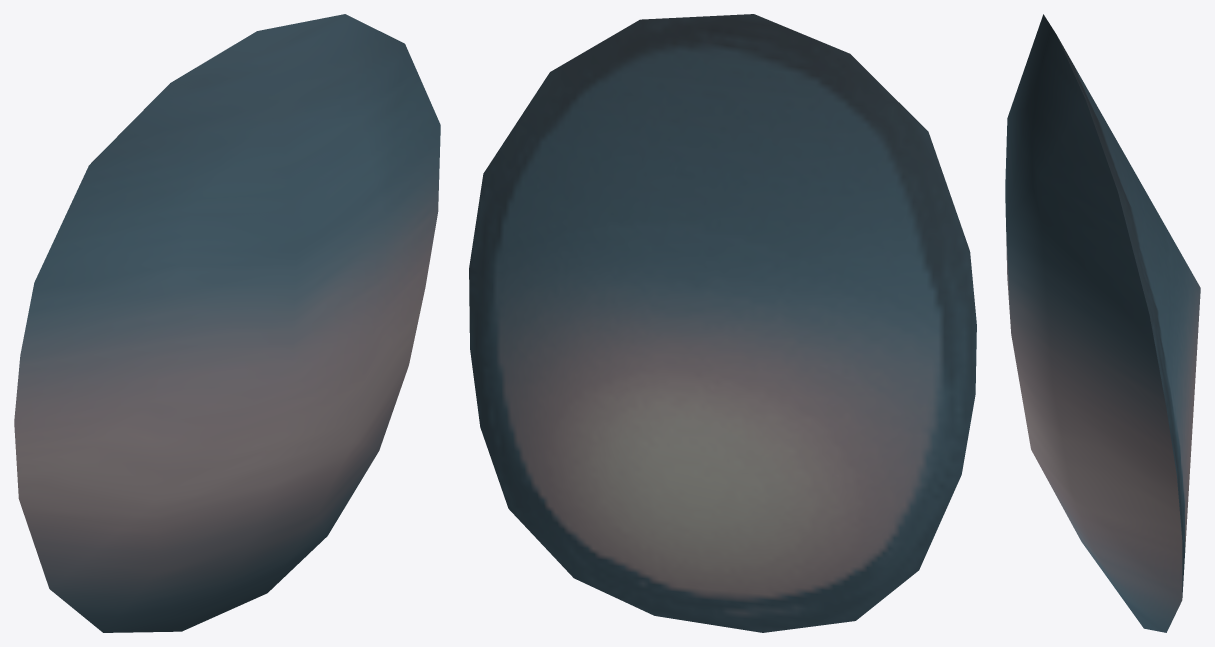
Rendered from Eye_03_L.fbx.
3 views of the same model, side by side, from view 1: azimuth 30°, elevation 25°; view 2: azimuth 150°, elevation 25°; view 3: azimuth 270°, elevation 25° (orthographic). The views are drawn at different scales.
Visible parts, largest first — view 1: Eye_03_L_Cover; view 2: Eye_03_L; view 3: Eye_03_L_Cover, Eye_03_L.
Part boxes in pixels (x1,y1,x2,y2): Eye_03_L_Cover: (14, 14, 440, 632); Eye_03_L: (469, 14, 976, 632); Eye_03_L_Cover: (1005, 14, 1182, 632); Eye_03_L: (1057, 36, 1200, 597).
Size of the model in its own units: 4.92 by 6.05 by 1.88.
1 material, 1 textured.
